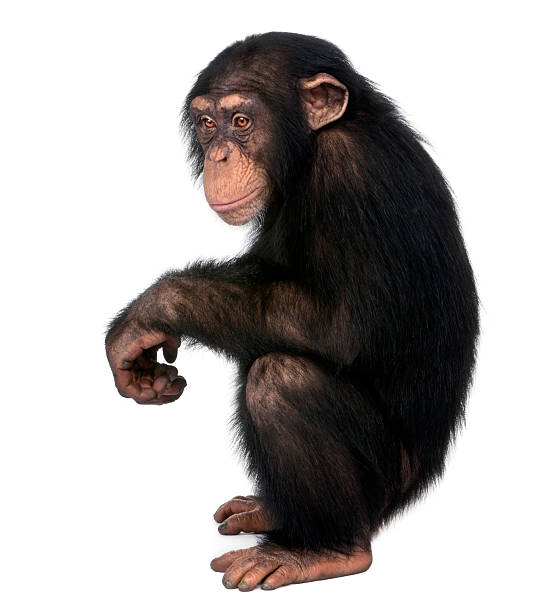chimpanzee: (154, 17, 364, 238)
